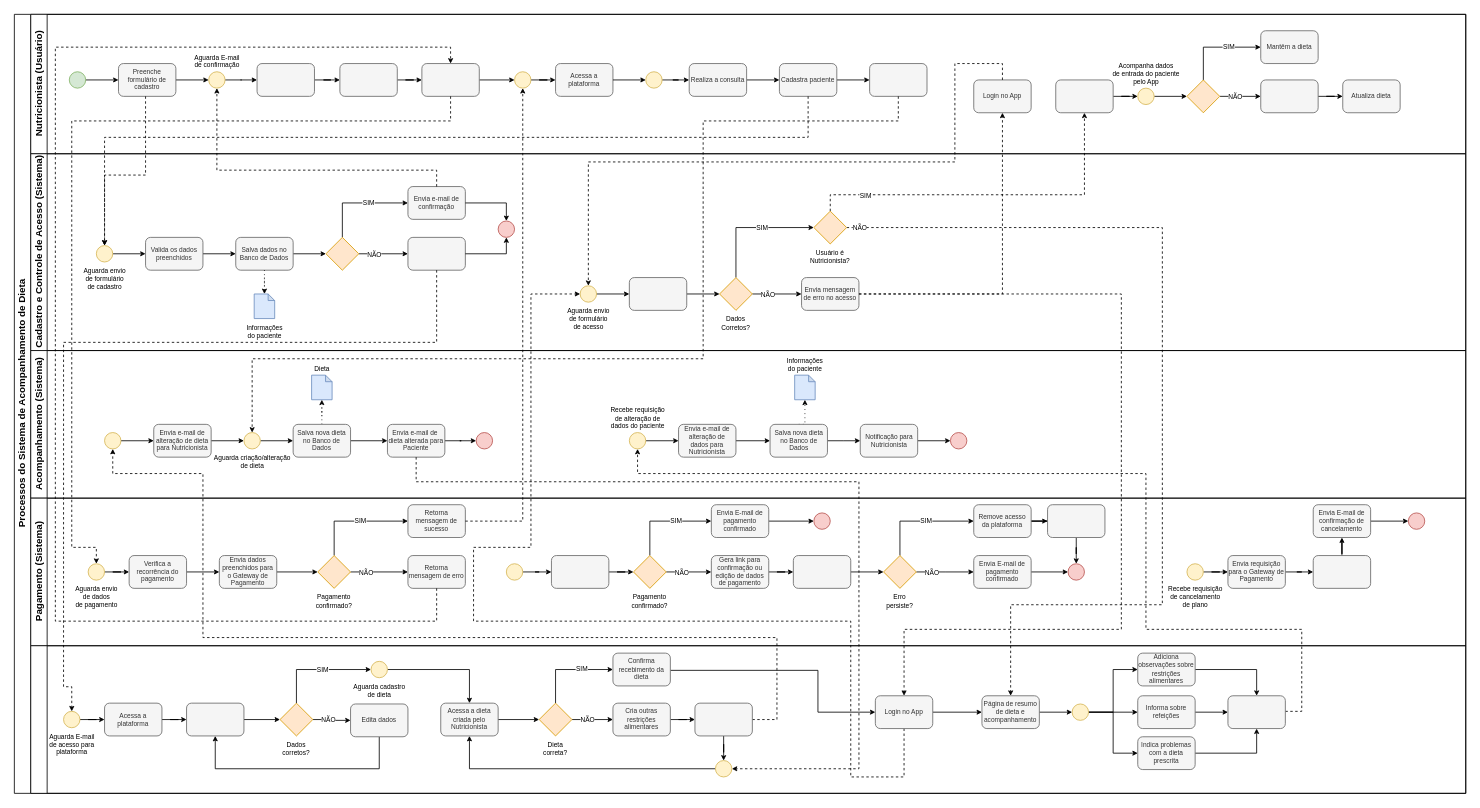
The diagram is 1480 pixels wide and 808 high, and some of its shapes have lost their labels. The box of each missing label's shape, as (x1, y1, x2, y2) in pixels:
Acessa o App diariamente: (1071, 703, 1089, 720)
Aguarda alteração: (715, 760, 732, 777)
Aguarda confirmação de pagamento: (514, 71, 531, 88)
Aguarda consulta: (645, 71, 662, 88)
Aguarda próxima data de pagamento: (506, 563, 523, 580)
Cadastro de Nutricionista?: (325, 237, 359, 270)
Confirma dados cadastrados: (256, 63, 314, 96)
Cria dieta respeitando restrições do paciente: (869, 63, 927, 96)
Dashboard com visão geral de pacientes: (1055, 79, 1113, 113)
Entende o motivo e restrições pelos dados de entrada do paciente: (1260, 79, 1318, 113)
Envia dados salvos para o Gateway de Pagamento: (551, 555, 609, 588)
Envia E-mail de acesso bloqueado: (1047, 504, 1105, 538)
Envia e-mail de com dados de acesso: (407, 237, 465, 270)
Envia E-mail de problema com pagamento: (793, 555, 851, 588)
Envia requisição de alteração de dieta: (694, 702, 752, 736)
Escolhe plano de assinatura: (339, 63, 397, 96)
Paciente (Usuário): (30, 645, 1466, 793)
Preenche dados de pagamento: (421, 63, 479, 96)
Recebe requisição de alteração de dieta: (104, 432, 121, 449)
Remove cobranças futuras: (1312, 555, 1371, 588)
Salva preferências e ações no sistema: (1227, 695, 1285, 729)
Seguiu a dieta?: (1186, 79, 1220, 113)
Verifica campos de email e senha no Banco de Dados: (629, 277, 687, 310)
Verifica os dados cadastrados: (186, 702, 244, 736)
